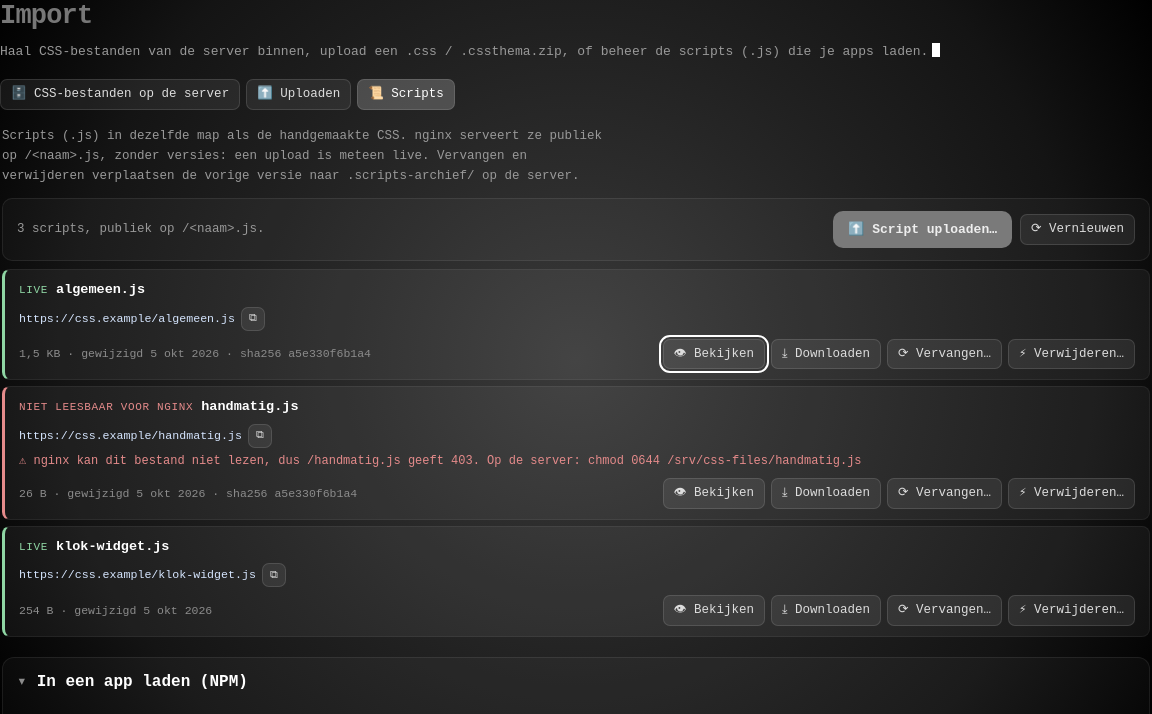
it: Import: tab Scripts › bekijken toont de inhoud; sluiten zet de focus terug
Step 1. Click the button with aria-label "algemeen.js bekijken" → {"x": 714, "y": 354}, box [663, 339, 765, 370]
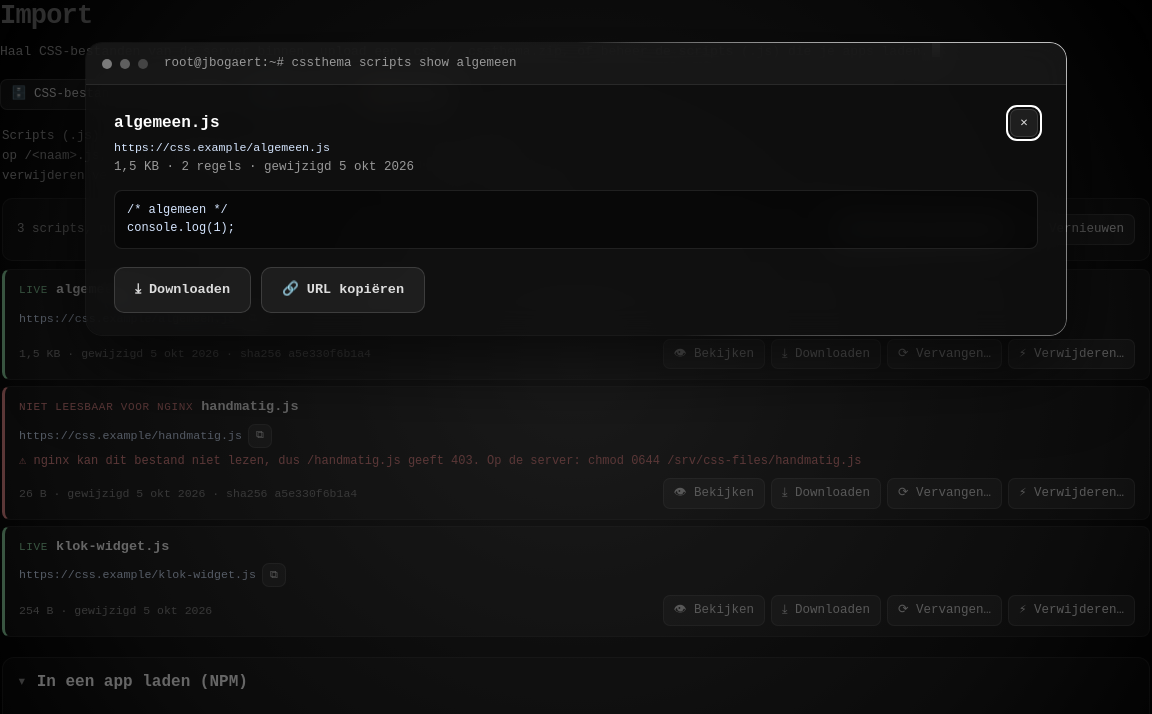
Check: the text "/* algemeen */ console.log(1);" is shown, box [114, 190, 1038, 249]
Check: the dialog "algemeen.js" shows "2 regels", box [159, 160, 242, 174]
Check: the dialog "algemeen.js" shows "https://css.example/algemeen.js", box [114, 141, 330, 154]
Step 2. Click the button named "Sluiten" → {"x": 1024, "y": 123}, box [1010, 109, 1038, 137]
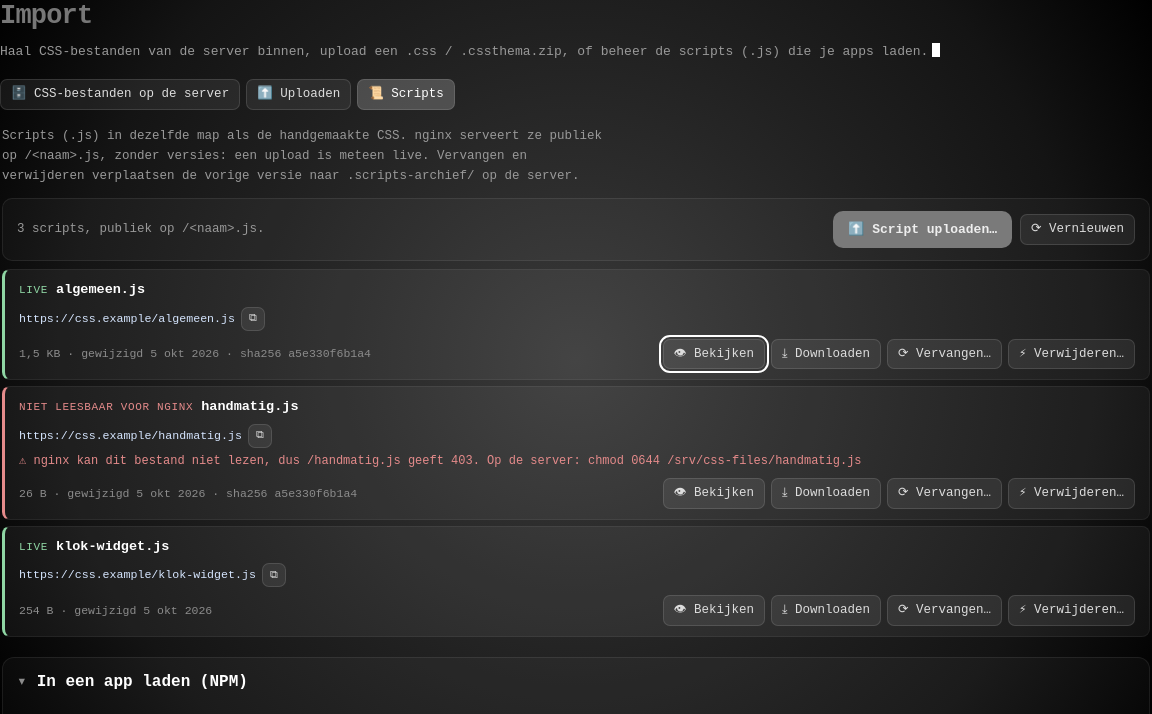
Check: the dialog is gone
